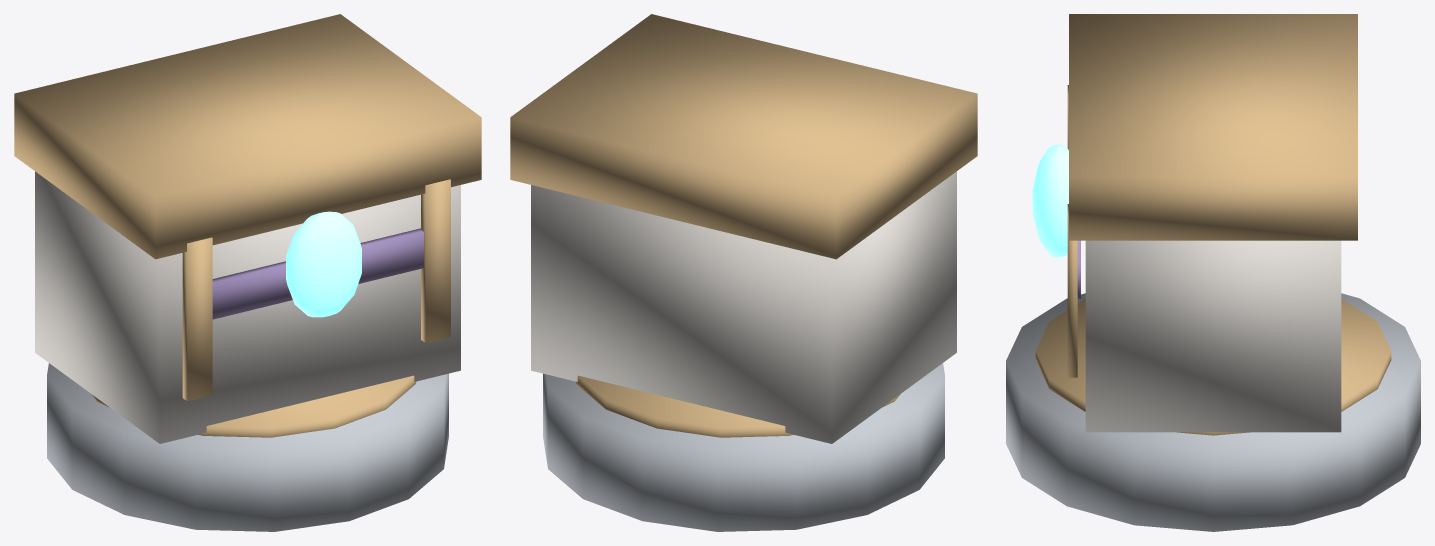
Rendered from prp_resonance_cache.glb.
The picture shows the model from 3 angles, left to right: view 1: azimuth 30°, elevation 25°; view 2: azimuth 150°, elevation 25°; view 3: azimuth 270°, elevation 25°; orthographic projection. The views are drawn at different scales.
Parts seen in each view (by area): view 1: PRP_resonance_cache_lid, PRP_resonance_cache_coffer, PRP_resonance_cache_foot, PRP_resonance_cache_lock, PRP_resonance_cache_front_band, PRP_resonance_cache_gold_ring, PRP_resonance_cache_ornament_0, PRP_resonance_cache_ornament_1; view 2: PRP_resonance_cache_coffer, PRP_resonance_cache_lid, PRP_resonance_cache_foot, PRP_resonance_cache_gold_ring; view 3: PRP_resonance_cache_lid, PRP_resonance_cache_coffer, PRP_resonance_cache_foot, PRP_resonance_cache_gold_ring, PRP_resonance_cache_lock, PRP_resonance_cache_ornament_1.
Part boxes in pixels (bbox=[...]): PRP_resonance_cache_lid: bbox=[14, 14, 481, 259]; PRP_resonance_cache_coffer: bbox=[35, 171, 460, 443]; PRP_resonance_cache_foot: bbox=[47, 363, 448, 531]; PRP_resonance_cache_lock: bbox=[286, 211, 361, 317]; PRP_resonance_cache_front_band: bbox=[212, 228, 423, 319]; PRP_resonance_cache_gold_ring: bbox=[91, 375, 416, 437]; PRP_resonance_cache_ornament_0: bbox=[182, 237, 212, 401]; PRP_resonance_cache_ornament_1: bbox=[421, 179, 450, 343]; PRP_resonance_cache_coffer: bbox=[531, 171, 956, 443]; PRP_resonance_cache_lid: bbox=[510, 14, 977, 259]; PRP_resonance_cache_foot: bbox=[543, 363, 944, 531]; PRP_resonance_cache_gold_ring: bbox=[575, 375, 900, 437]; PRP_resonance_cache_lid: bbox=[1069, 14, 1357, 240]; PRP_resonance_cache_coffer: bbox=[1085, 240, 1341, 432]; PRP_resonance_cache_foot: bbox=[1006, 293, 1420, 531]; PRP_resonance_cache_gold_ring: bbox=[1035, 299, 1391, 435]; PRP_resonance_cache_lock: bbox=[1032, 144, 1068, 257]; PRP_resonance_cache_ornament_1: bbox=[1067, 204, 1077, 377].
Bounding box in the file's own units: 1.12 × 1.04 × 1.12.
